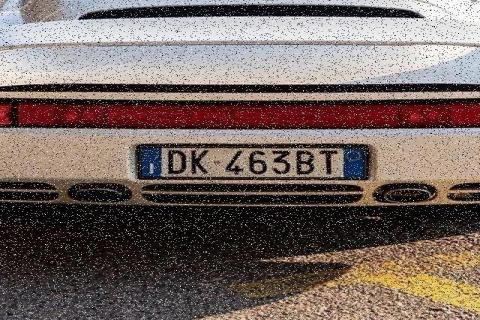LicensePlate: (129, 143, 373, 185)
